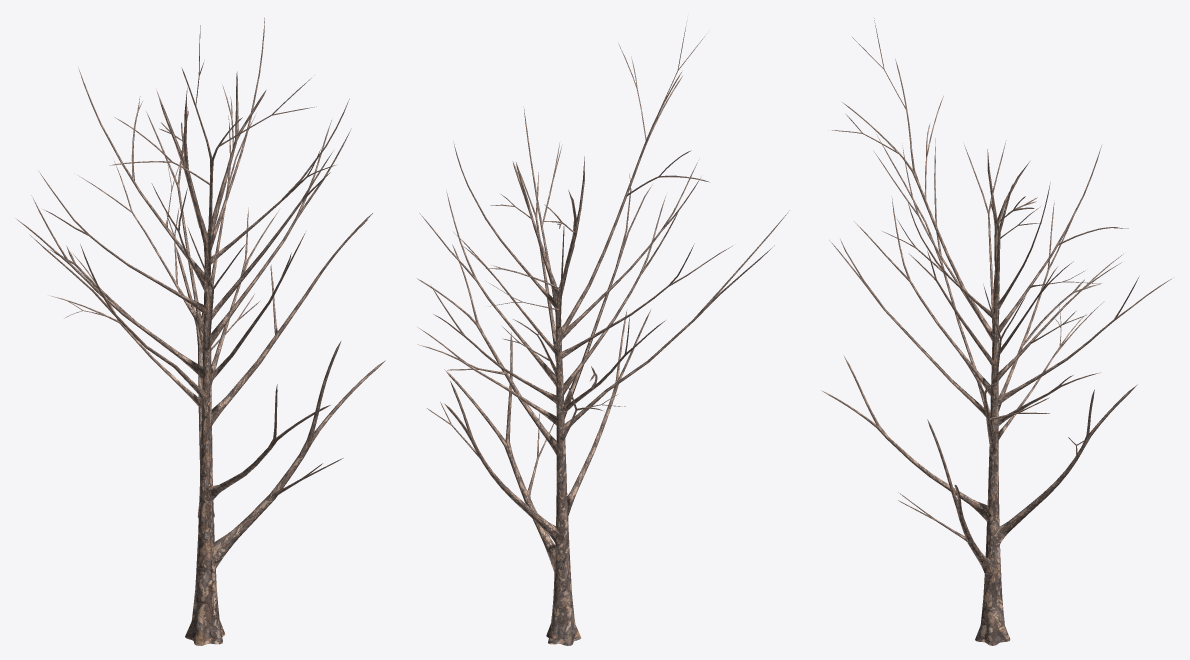
File: Tree6.glb
3 renders of one model, left to right at view 1: azimuth 30°, elevation 25°; view 2: azimuth 150°, elevation 25°; view 3: azimuth 270°, elevation 25°, orthographic. The views are drawn at different scales.
Visible parts, largest first — view 1: bottom_trunk, polySurface1, polySurface35, polySurface5, polySurface7, polySurface4, polySurface51, polySurface36, polySurface50, polySurface21, polySurface3, polySurface24 (+9 smaller); view 2: bottom_trunk, polySurface1, polySurface20, polySurface35, polySurface4, polySurface36, polySurface37, polySurface7, polySurface6, polySurface8, polySurface63, polySurface3 (+6 smaller); view 3: bottom_trunk, polySurface20, polySurface4, polySurface1, polySurface5, polySurface36, polySurface6, polySurface37, polySurface2, polySurface35, polySurface21, polySurface63 (+4 smaller).
Part boxes in pixels (x1,y1,x2,y2): bottom_trunk: (185, 313, 225, 645); polySurface1: (210, 341, 385, 569); polySurface35: (210, 213, 372, 425); polySurface5: (16, 195, 205, 378); polySurface7: (210, 120, 351, 345); polySurface4: (202, 384, 330, 504); polySurface51: (156, 87, 207, 243); polySurface36: (29, 234, 210, 402); polySurface50: (207, 71, 266, 238); polySurface21: (78, 161, 203, 334); polySurface3: (39, 172, 208, 314); polySurface24: (209, 152, 332, 319); bottom_trunk: (546, 357, 580, 645); polySurface1: (444, 332, 555, 571); polySurface20: (444, 381, 564, 545); polySurface35: (416, 244, 558, 454); polySurface4: (567, 309, 650, 516); polySurface36: (562, 210, 789, 433); polySurface37: (564, 174, 652, 418); polySurface7: (419, 190, 557, 386); polySurface6: (563, 195, 678, 395); polySurface8: (559, 158, 700, 340); polySurface63: (560, 182, 632, 337); polySurface3: (558, 243, 732, 359); bottom_trunk: (975, 361, 1010, 645); polySurface20: (992, 384, 1137, 545); polySurface4: (821, 355, 991, 521); polySurface1: (927, 419, 997, 581); polySurface5: (998, 200, 1100, 411); polySurface36: (876, 134, 990, 412); polySurface6: (854, 196, 991, 396); polySurface37: (829, 239, 993, 420); polySurface2: (995, 276, 1172, 406); polySurface35: (958, 352, 1049, 458); polySurface21: (998, 254, 1123, 380); polySurface63: (919, 188, 994, 340).
Bounding box in the file's own units: 4.32 × 7.5 × 4.08.
Materials: 1 (1 with a texture image).
